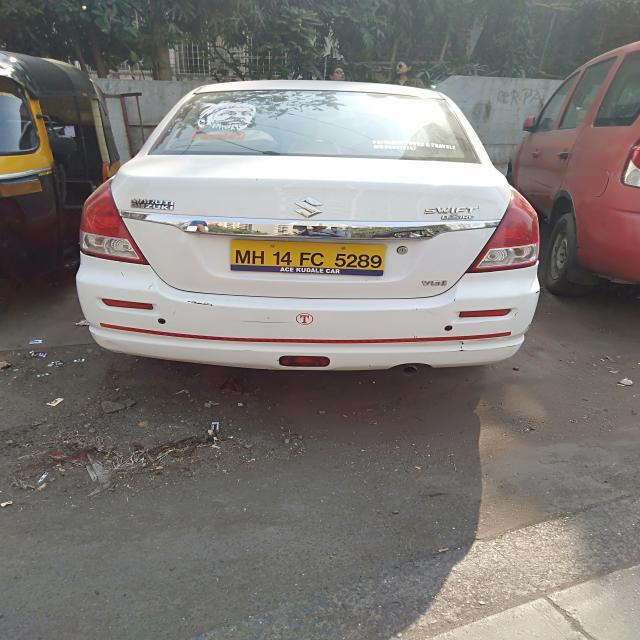Number-Plate: (234, 238, 386, 274)
